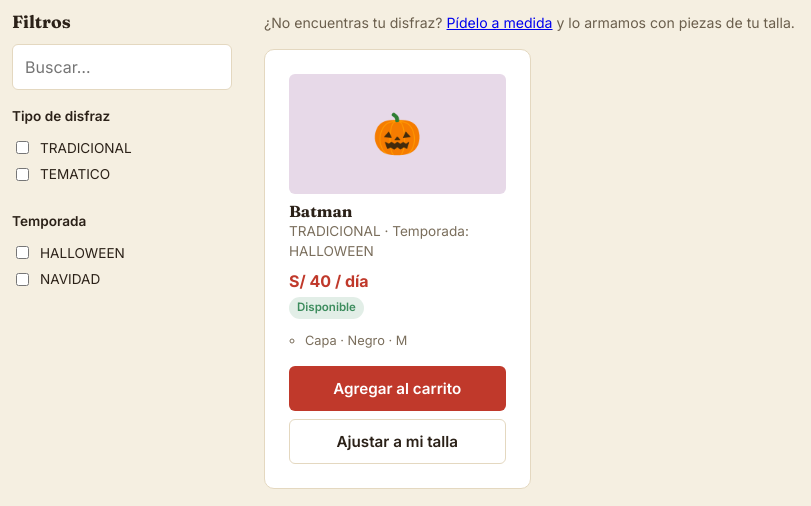
Test: Pruebas funcionales - Catálogo › PF-FE-14: filtra el catálogo por tipo de disfraz
Check: the heading "Batman" is shown, box [289, 201, 352, 221]
Click the checkbox labelled "TRADICIONAL".
click(22, 148)  # box [16, 141, 29, 154]
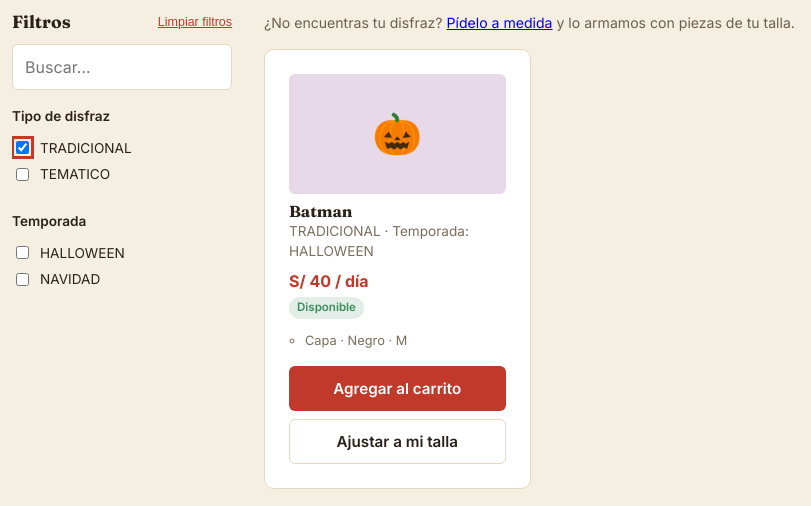
Check: the button "Limpiar filtros" is shown, box [158, 15, 232, 29]
